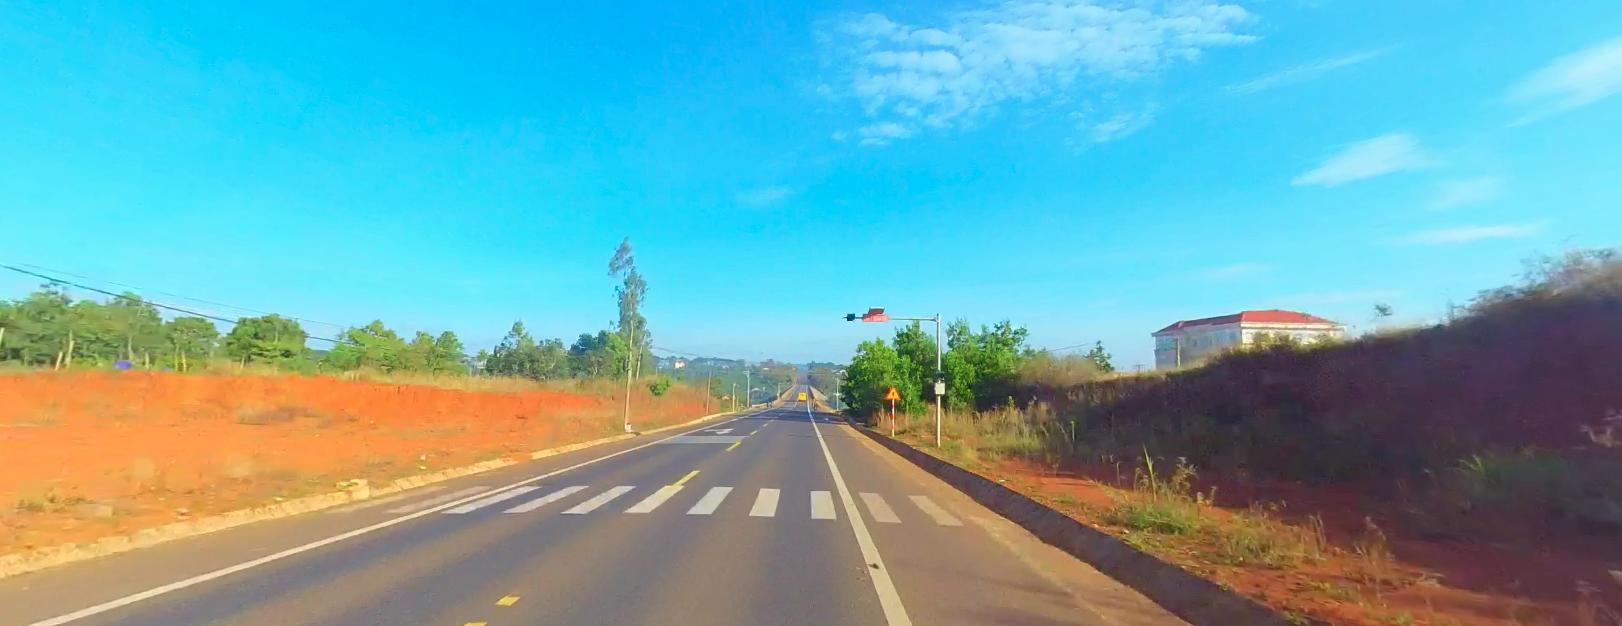Nguy hiem: (885, 383, 901, 398), (883, 384, 900, 398), (885, 383, 900, 398), (885, 385, 900, 398)
